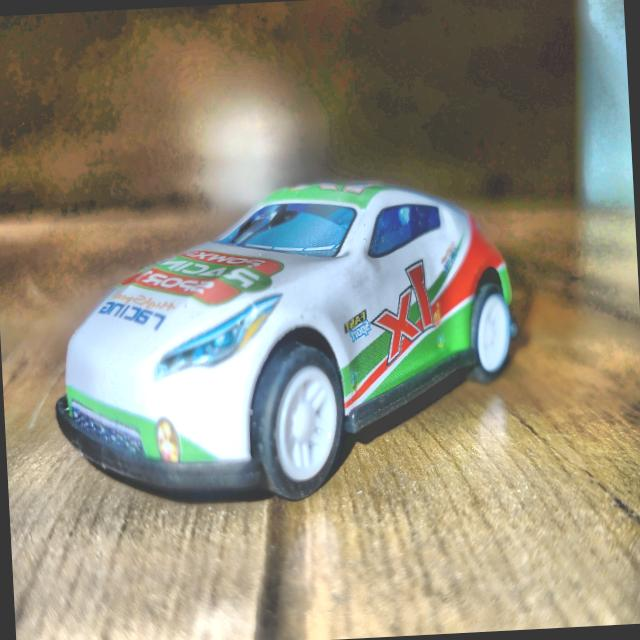Car: (35, 158, 552, 520)
